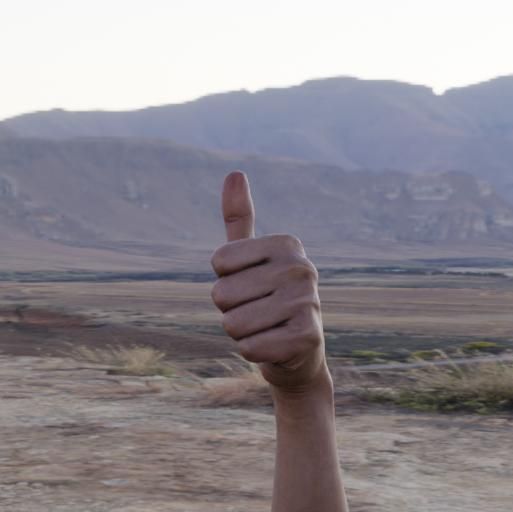thumbs-up: (205, 166, 326, 400)
